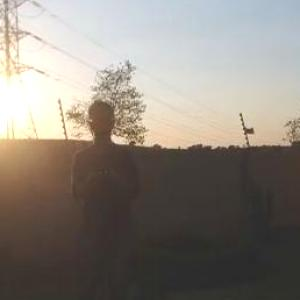follow: (70, 95, 145, 299)
